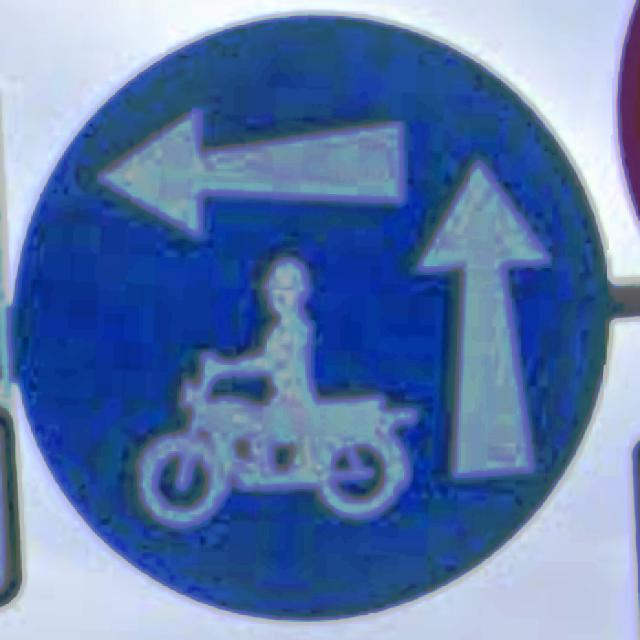twostageturn: (7, 11, 611, 626)
